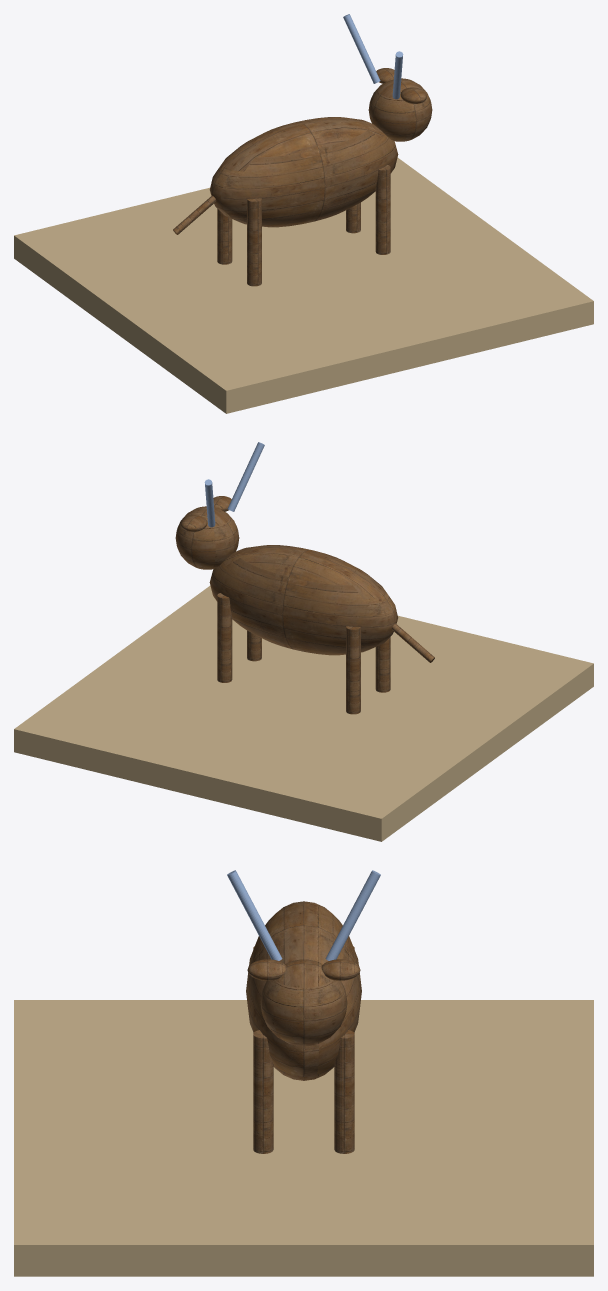
File: boi.glb
3 views of the same model, one above another, from view 1: azimuth 30°, elevation 25°; view 2: azimuth 150°, elevation 25°; view 3: azimuth 270°, elevation 25° (orthographic). The views are drawn at different scales.
Visible parts, largest first — view 1: Base ilustrativa, Corpo, Cabeça, Perna.003, Perna.001, Perna, Chifre; view 2: Base ilustrativa, Corpo, Cabeça, Perna.002, Perna, Perna.001, Chifre.001; view 3: Base ilustrativa, Corpo, Cabeça, Perna.002, Perna.003, Chifre, Chifre.001, Orelha, Orelha.001.
Boxes of the visible parts, x1,y1,x2,y2 form: Base ilustrativa: [14, 157, 593, 413]; Corpo: [209, 117, 398, 227]; Cabeça: [368, 78, 432, 141]; Perna.003: [375, 165, 390, 254]; Perna.001: [247, 198, 261, 286]; Perna: [217, 209, 232, 264]; Chifre: [343, 14, 380, 83]; Base ilustrativa: [14, 585, 593, 841]; Corpo: [209, 545, 398, 655]; Cabeça: [175, 506, 239, 569]; Perna.002: [217, 593, 232, 682]; Perna: [346, 626, 360, 714]; Perna.001: [375, 637, 390, 692]; Chifre.001: [227, 442, 264, 511]; Base ilustrativa: [14, 1000, 593, 1276]; Corpo: [246, 901, 361, 1080]; Cabeça: [260, 959, 347, 1046]; Perna.002: [334, 1030, 354, 1153]; Perna.003: [253, 1030, 273, 1153]; Chifre: [325, 870, 380, 960]; Chifre.001: [227, 870, 282, 960]; Orelha: [321, 959, 360, 980]; Orelha.001: [247, 959, 286, 980].
Bounding box in the file's own units: 4 × 2.51 × 4.
Materials: 3 (2 with a texture image).
